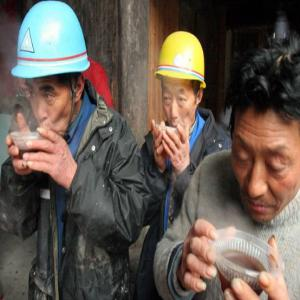blue: (15, 3, 86, 141)
none: (229, 39, 300, 227)
yellow: (157, 30, 206, 134)
